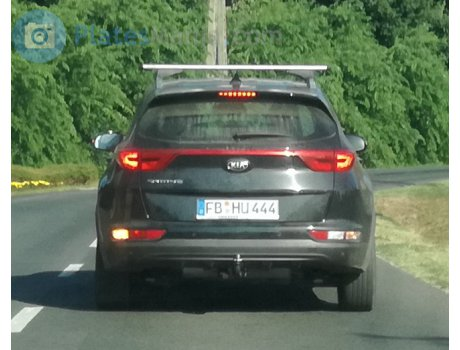License Plates: (197, 197, 279, 215)
